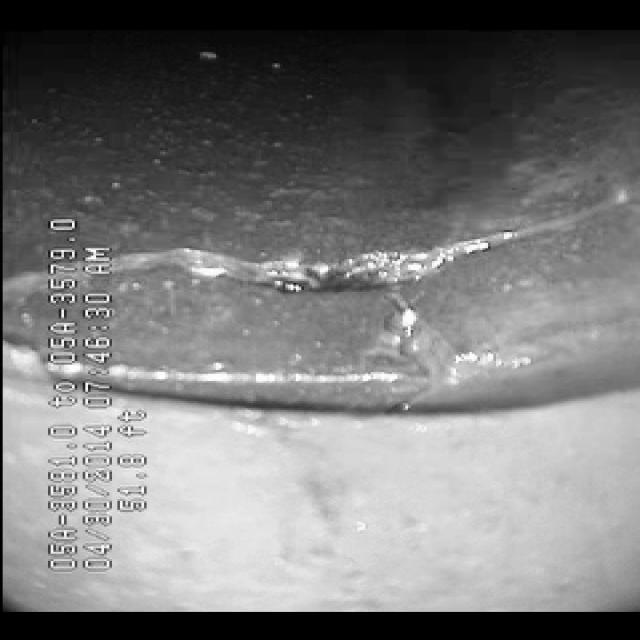Crack: (127, 200, 538, 316)
